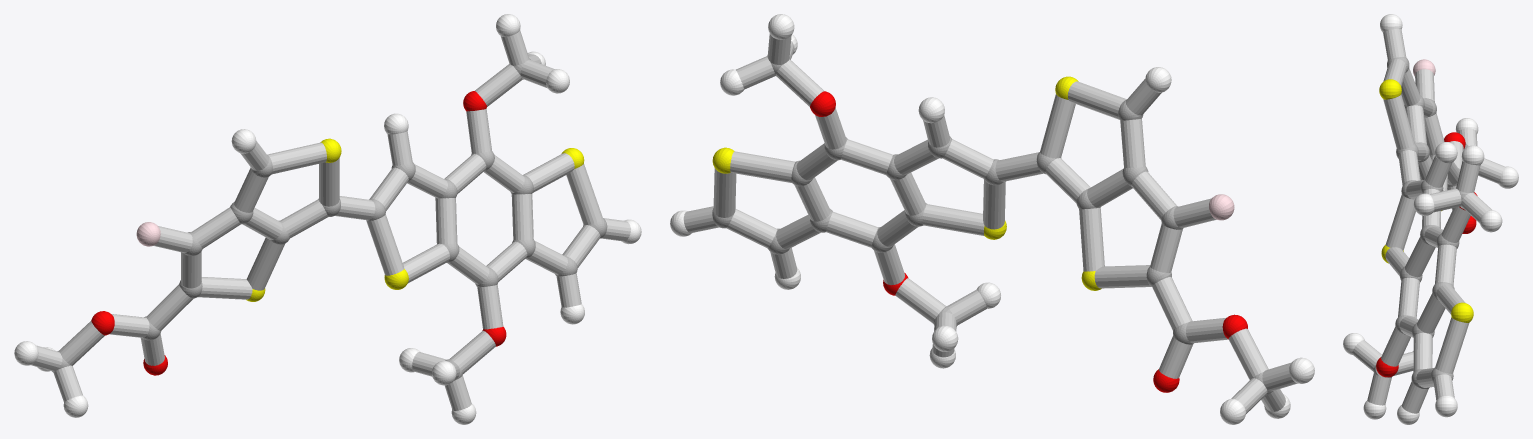
Rendered from Dimethoxy_Benzodithiophene_Phi_5_Theta_320_Methylcarbonyl_3_Fluoro_Thienothiophene.glb.
3 views of the same model, side by side, from view 1: azimuth 30°, elevation 25°; view 2: azimuth 150°, elevation 25°; view 3: azimuth 270°, elevation 25° (orthographic). The views are drawn at different scales.
Parts seen in each view (by area): view 1: grp15205, grp8689, grp1, grp13395, grp7241; view 2: grp15205, grp8689, grp1, grp13395, grp7241; view 3: grp15205, grp8689, grp1, grp7241, grp13395, grp14843.
Boxes of the visible parts, x1,y1,x2,y2 form: grp15205: (31, 30, 630, 410); grp8689: (14, 14, 641, 424); grp1: (52, 58, 607, 379); grp13395: (91, 91, 506, 375); grp7241: (246, 138, 584, 301); grp15205: (683, 34, 1297, 413); grp8689: (670, 14, 1314, 424); grp1: (712, 55, 1272, 395); grp13395: (810, 91, 1247, 392); grp7241: (712, 76, 1101, 290); grp15205: (1352, 29, 1504, 413); grp8689: (1343, 14, 1518, 424); grp1: (1373, 57, 1474, 388); grp7241: (1379, 79, 1473, 322); grp13395: (1376, 132, 1477, 377); grp14843: (1413, 59, 1435, 76).
Size of the model in its own units: 17.15 by 9.24 by 4.66.
